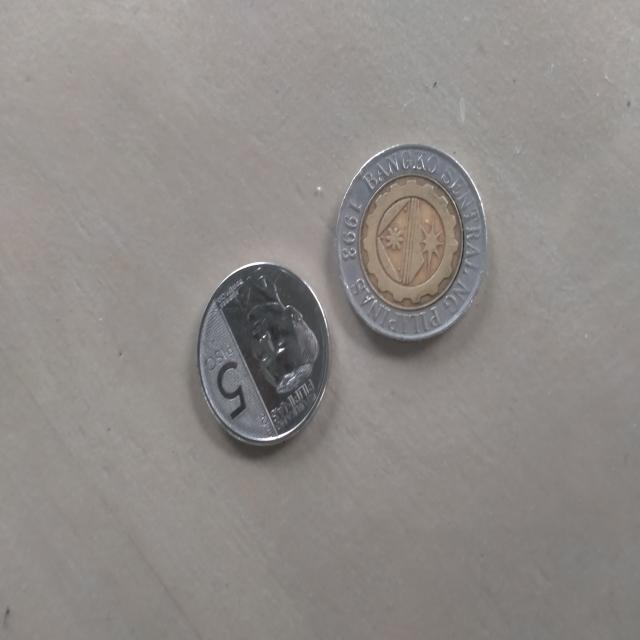10_Old_Back: (336, 143, 492, 338)
5_New_Front: (201, 337, 257, 440)
